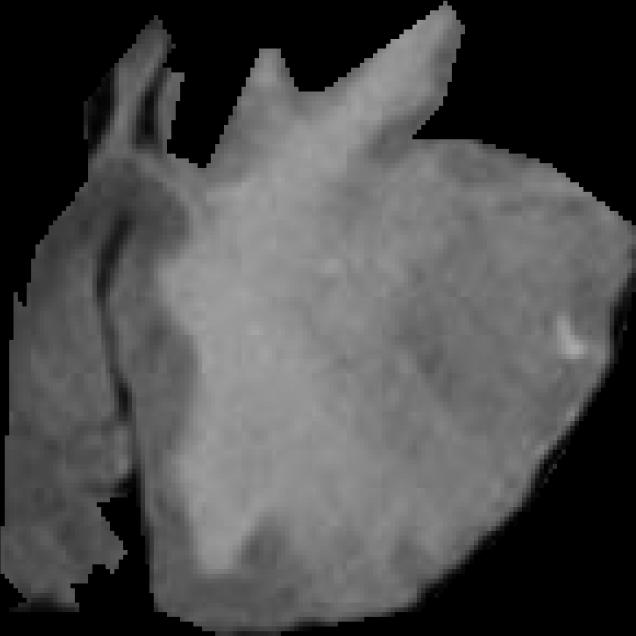tumor_moderate_chance: (0, 1, 636, 636)
